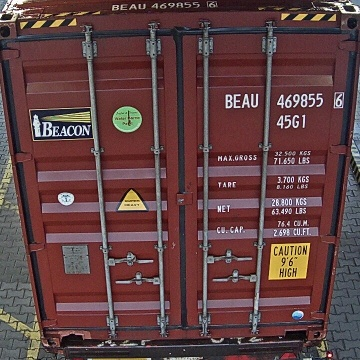serial_id: (225, 92, 343, 108)
